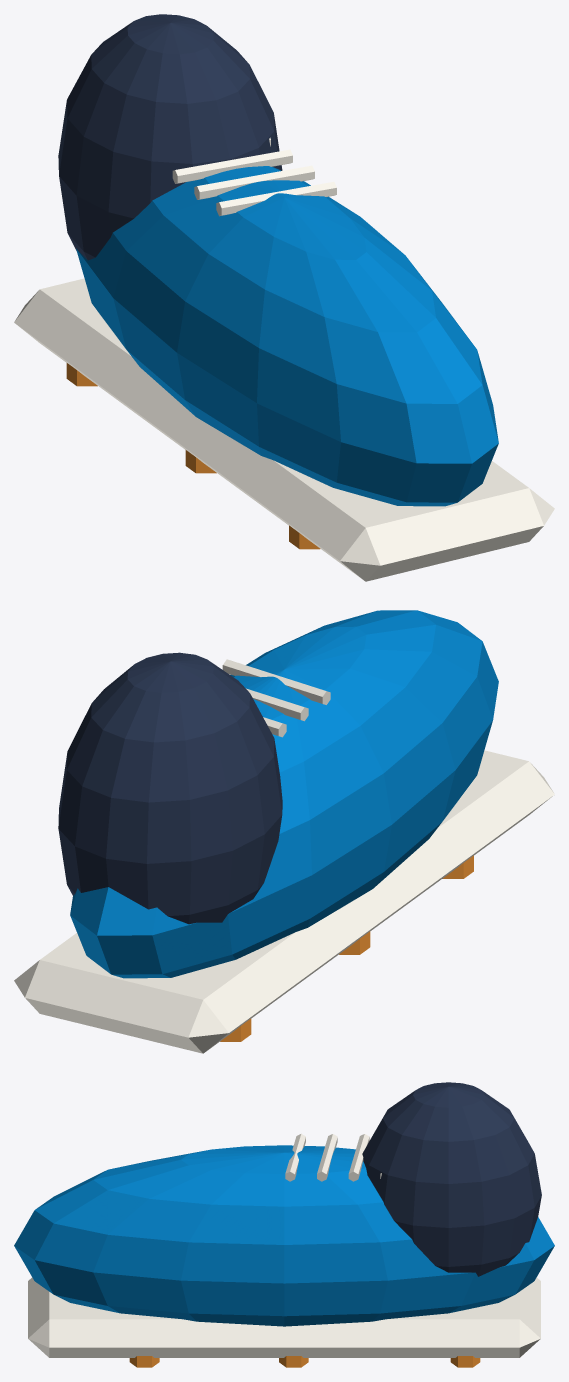
File: boot.glb
The picture shows the model from 3 angles, top to bottom: view 1: azimuth 30°, elevation 25°; view 2: azimuth 150°, elevation 25°; view 3: azimuth 270°, elevation 25°; orthographic projection. The views are drawn at different scales.
Parts seen in each view (by area): view 1: Upper, Heel, Sole, Lace.001, Lace.002, Lace.003; view 2: Upper, Heel, Sole, Lace.003, Lace.002; view 3: Upper, Heel, Sole, Lace.002, Lace.001, Lace.003.
Part boxes in pixels (<box>): Upper: <box>76,166,498,506</box>; Heel: <box>58,14,282,260</box>; Sole: <box>14,278,554,581</box>; Lace.001: <box>172,149,292,183</box>; Lace.002: <box>194,165,314,199</box>; Lace.003: <box>216,181,336,216</box>; Upper: <box>70,610,498,978</box>; Heel: <box>58,652,282,924</box>; Sole: <box>14,750,554,1053</box>; Lace.003: <box>222,659,330,704</box>; Lace.002: <box>246,688,308,721</box>; Upper: <box>14,1145,554,1326</box>; Heel: <box>362,1082,541,1276</box>; Sole: <box>28,1277,540,1357</box>; Lace.002: <box>317,1134,337,1181</box>; Lace.001: <box>348,1134,369,1181</box>; Lace.003: <box>285,1134,305,1181</box>.
Bounding box in the file's own units: 0.096 × 0.149 × 0.29.
